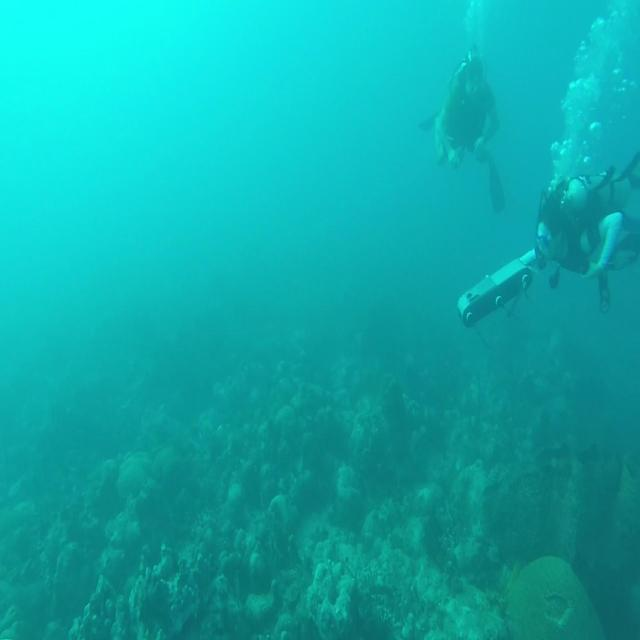human: (534, 150, 639, 313), (419, 45, 506, 214)
